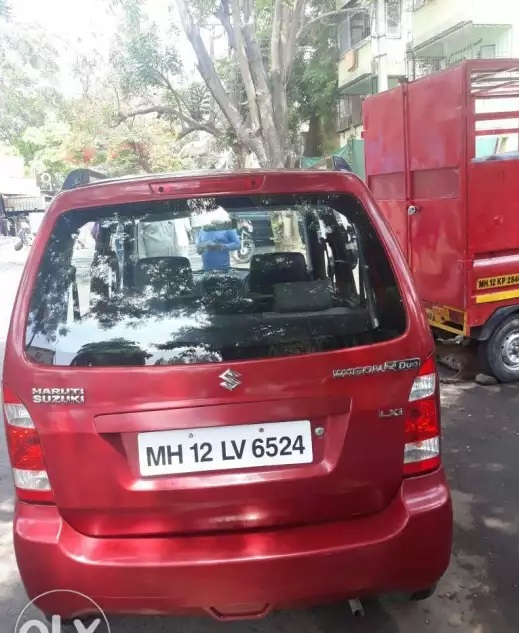licenseplate: (126, 416, 315, 470)
